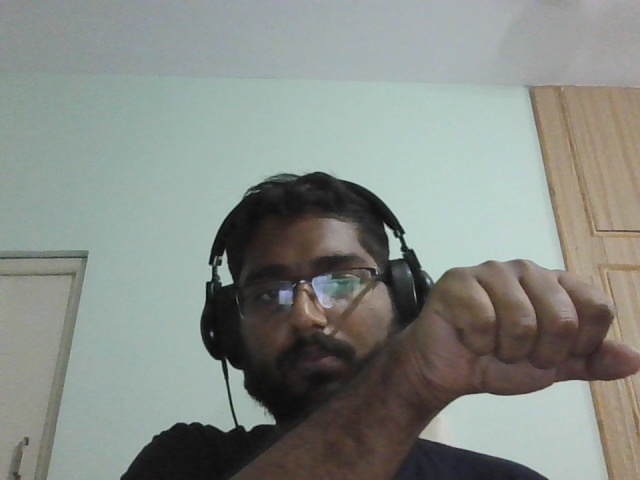Yes: (407, 242, 627, 416)
